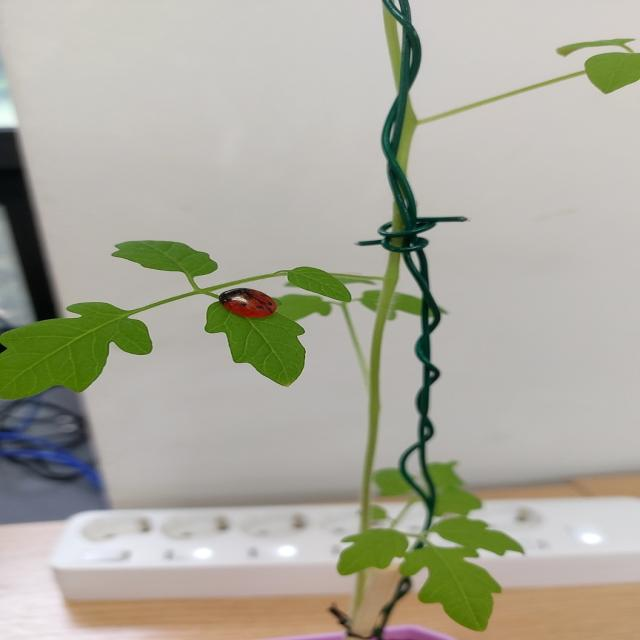bug: (206, 278, 286, 326)
